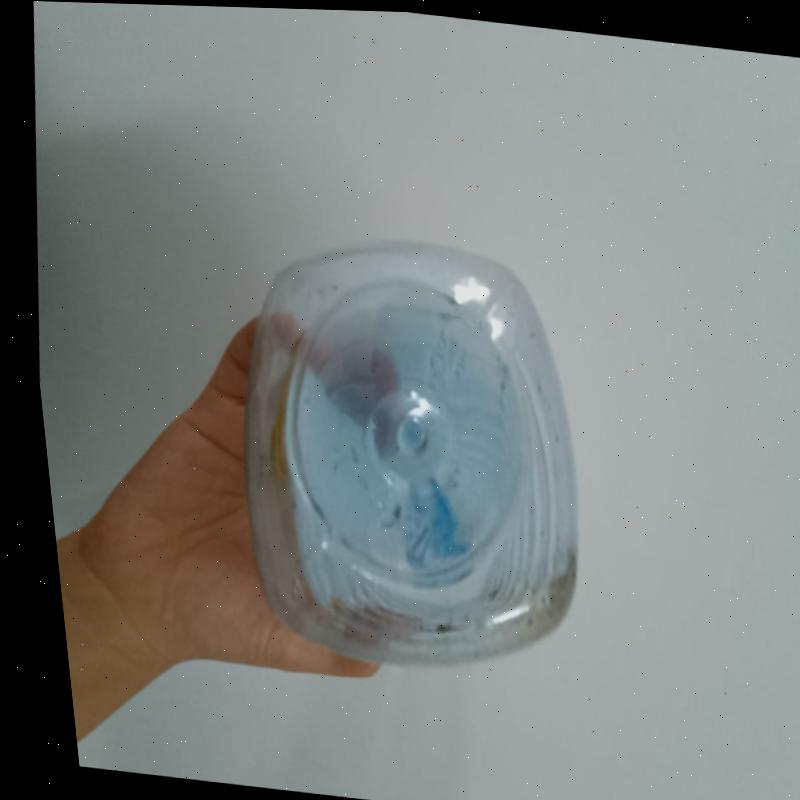botella: (186, 211, 613, 687)
